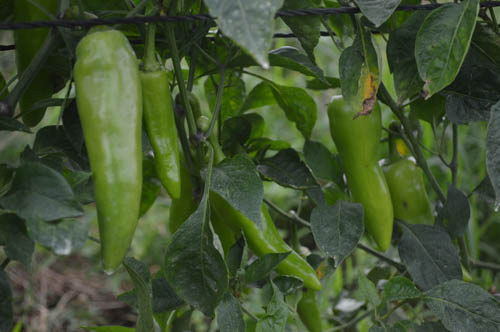ChiliPepper: (75, 31, 141, 274), (217, 181, 318, 291), (334, 97, 392, 254), (138, 66, 179, 194), (387, 161, 438, 232)
